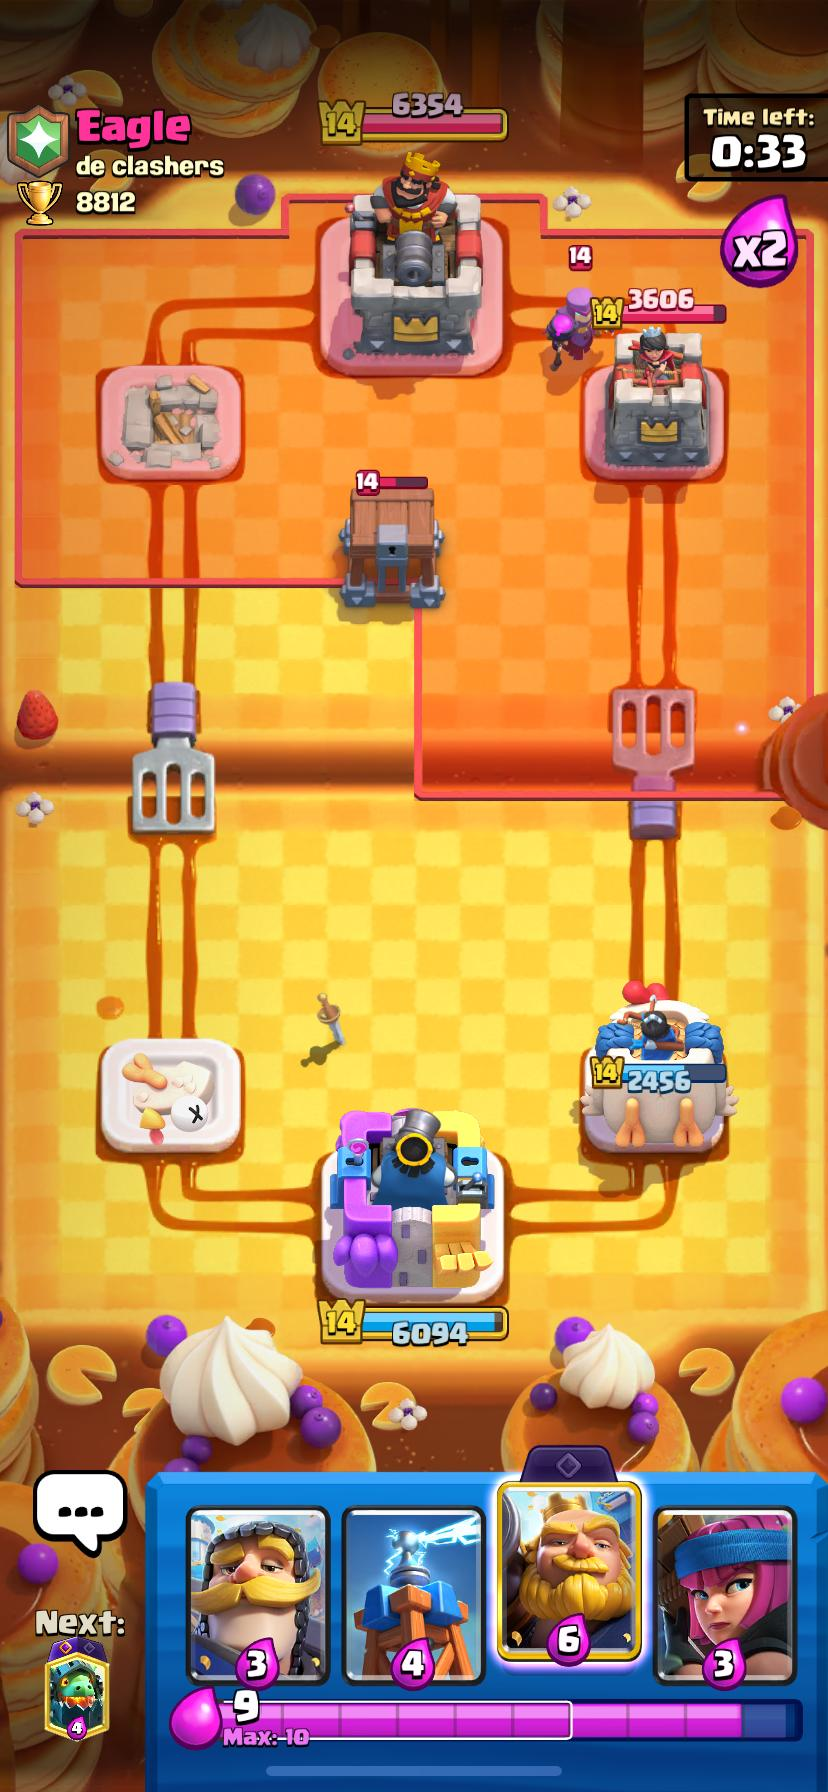EGoblinCage: (340, 470, 444, 608)
EKingTower: (337, 154, 487, 375)
EMotherWitch: (544, 290, 595, 370)
EnemyPrincessTower: (603, 327, 722, 477)
OwnKingTower: (321, 1109, 503, 1307)
OwnPrincessTower: (581, 982, 737, 1151)
TowerDown: (99, 1037, 242, 1157), (101, 365, 240, 480)
